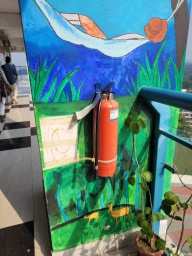fire_extinguisher: (61, 97, 134, 133)
